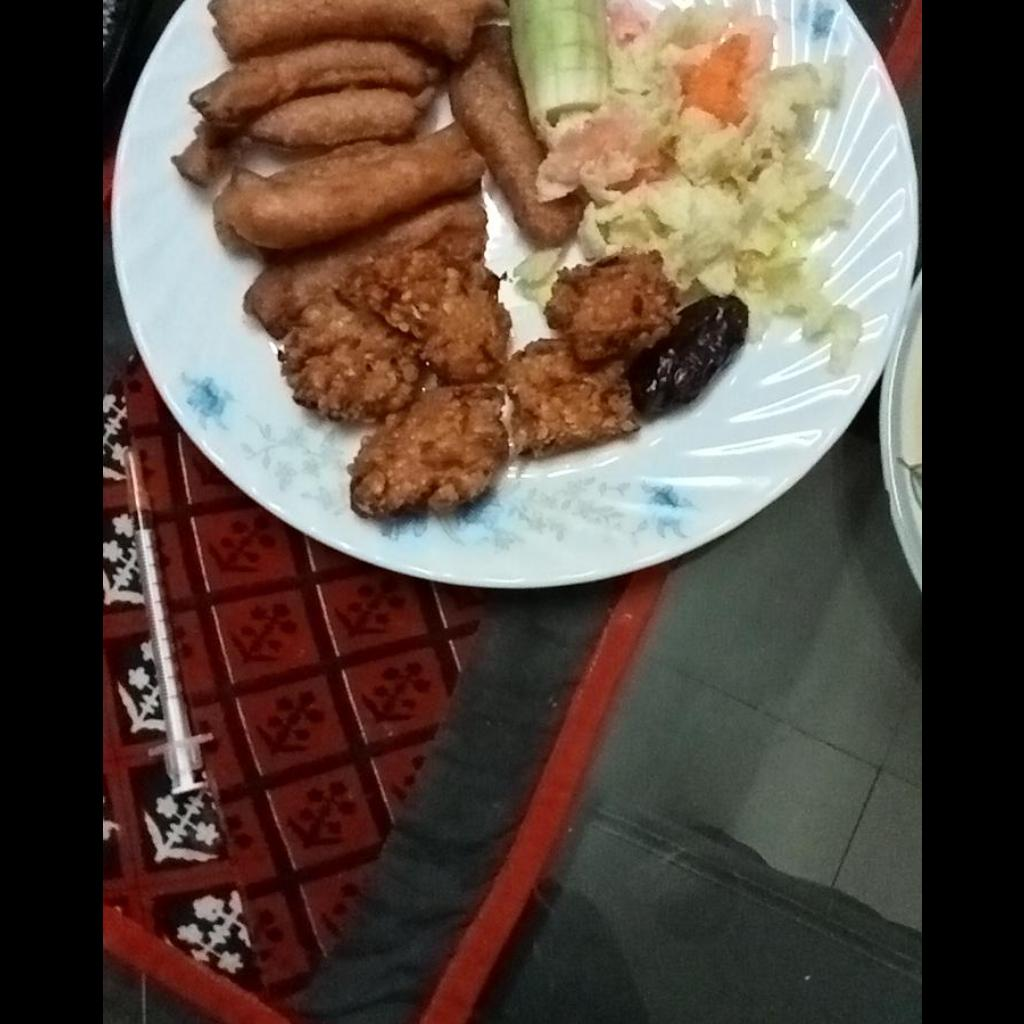beguni: (172, 0, 561, 245)
cucumber: (509, 0, 608, 142)
dates: (632, 296, 752, 420)
peyaju: (279, 239, 677, 526)
vegetable: (535, 0, 848, 348)
